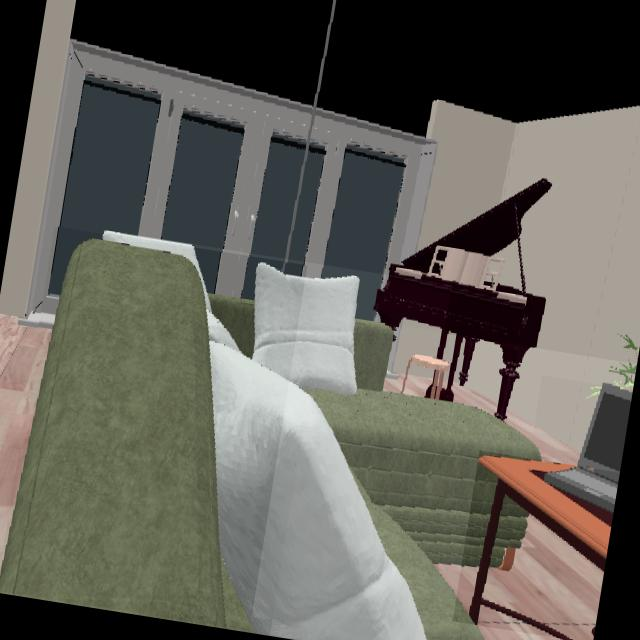laptop: (527, 385, 632, 529)
pillow: (102, 231, 405, 639)
sofa: (0, 235, 256, 632), (308, 322, 540, 640)
table: (469, 456, 614, 625)
